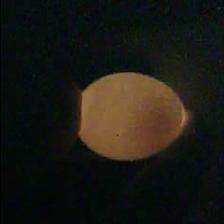infertile: (74, 69, 188, 161)
